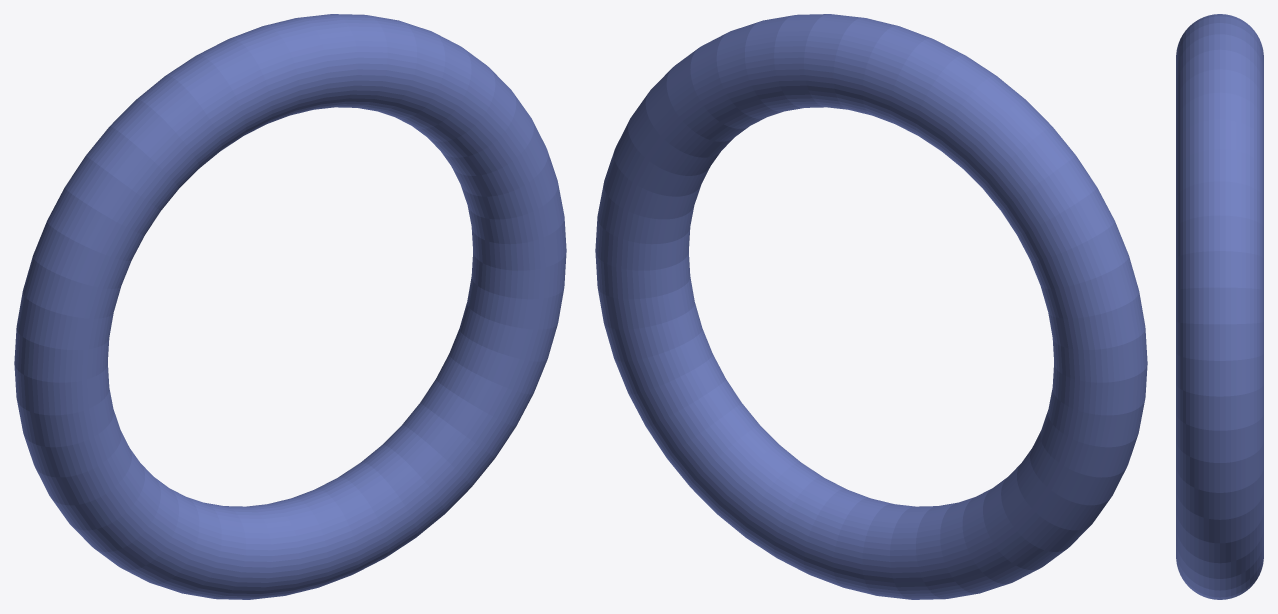
The picture shows the model from 3 angles, left to right: view 1: azimuth 30°, elevation 25°; view 2: azimuth 150°, elevation 25°; view 3: azimuth 270°, elevation 25°; orthographic projection. The views are drawn at different scales.
Parts seen in each view (by area): view 1: world; view 2: world; view 3: world.
Part boxes in pixels (x1=…): world: x1=14, y1=14, x2=566, y2=599; world: x1=595, y1=14, x2=1147, y2=599; world: x1=1176, y1=14, x2=1263, y2=599.
Bounding box in the file's own units: 13.33 × 13.31 × 2.
